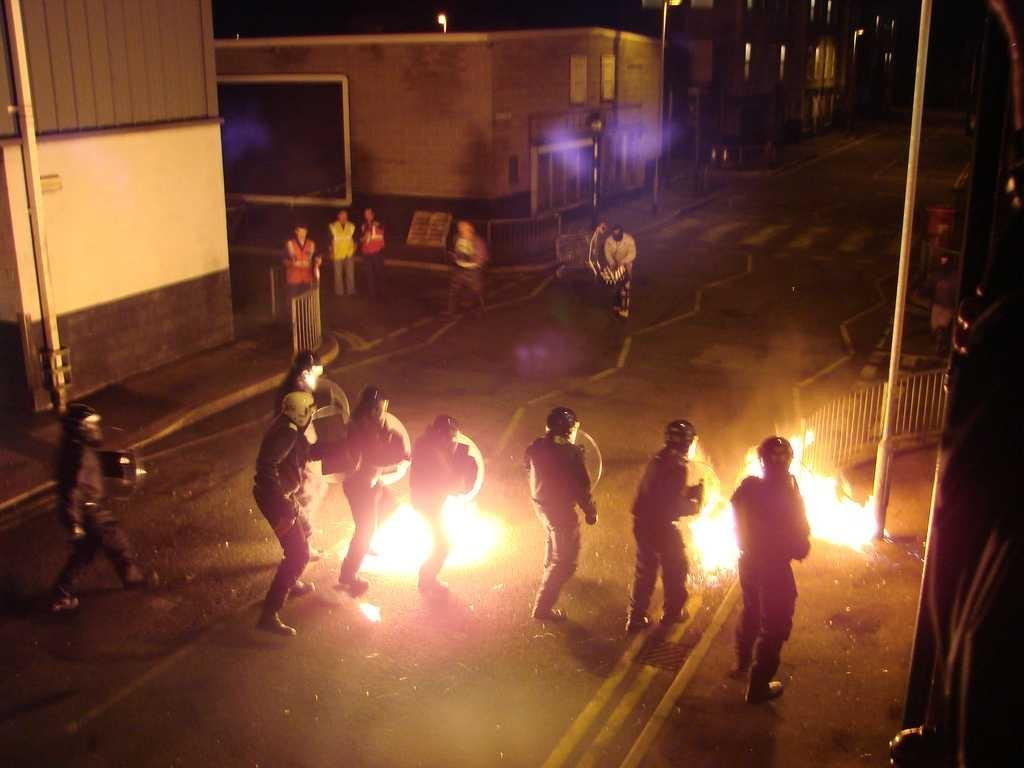fire: (451, 500, 500, 565), (377, 497, 420, 569), (811, 476, 847, 544), (703, 510, 735, 570)
